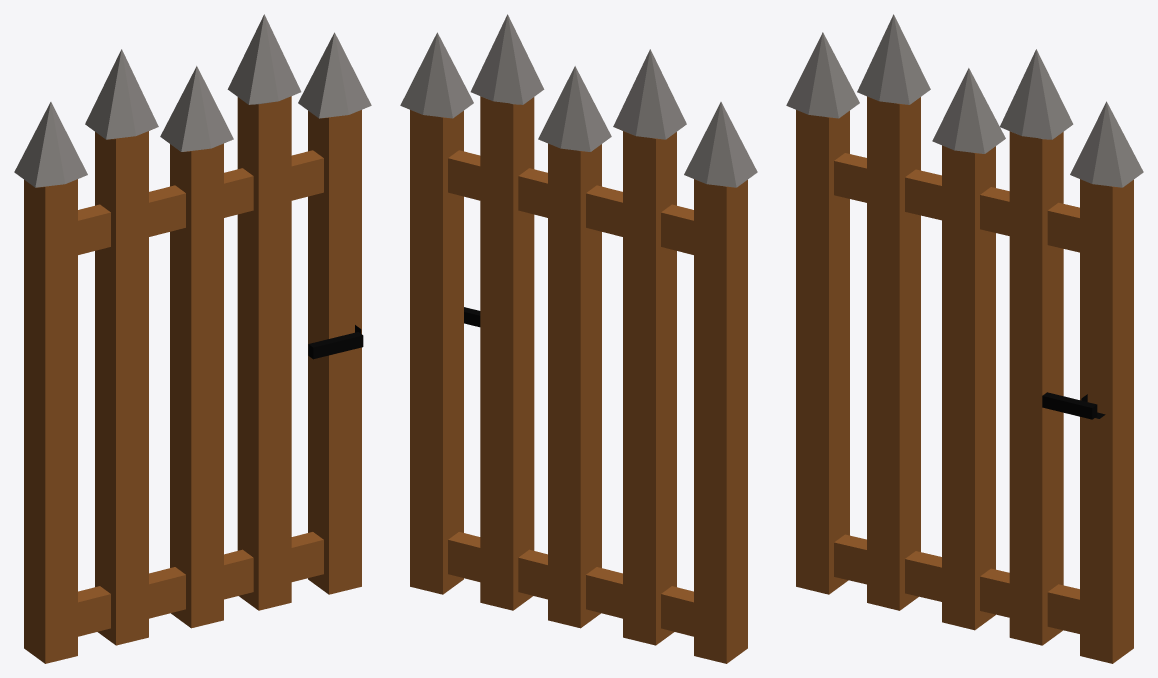
Rendered from door.fbx.
3 views of the same model, side by side, from view 1: azimuth 30°, elevation 25°; view 2: azimuth 150°, elevation 25°; view 3: azimuth 330°, elevation 25° (orthographic).
Parts seen in each view (by area): view 1: Cube.004; view 2: Cube.004; view 3: Cube.004.
Boxes of the visible parts, x1=… form: Cube.004: x1=14, y1=14, x2=371, y2=663; Cube.004: x1=400, y1=14, x2=757, y2=663; Cube.004: x1=786, y1=14, x2=1143, y2=663.
Size of the model in its own units: 148 by 246 by 27.3.
